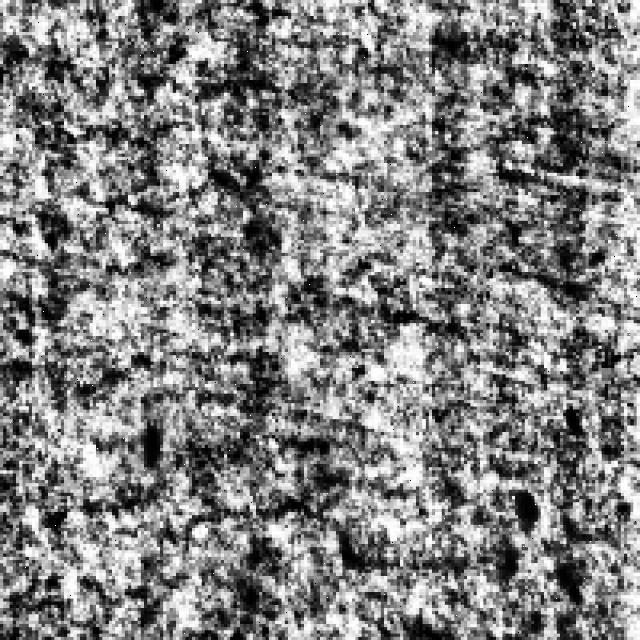Pitted_Surface: (48, 471, 477, 624)
